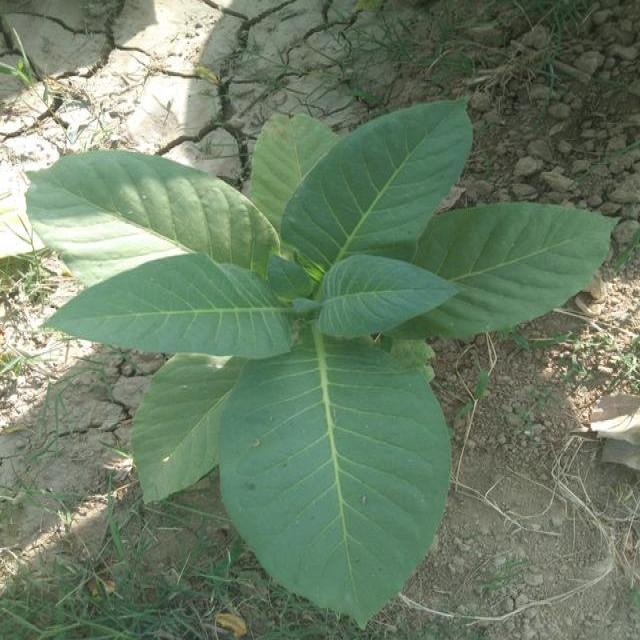crop: (30, 103, 611, 616)
